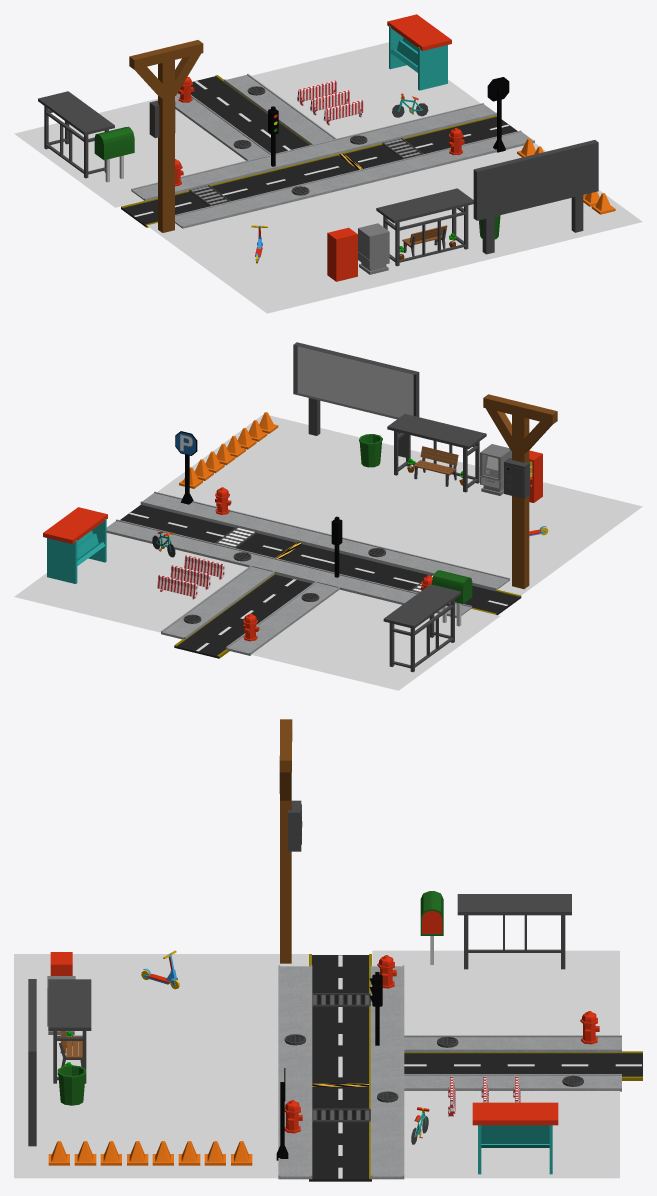
The model's file is Layout.fbx.
3 views of the same model, one above another, from view 1: azimuth 30°, elevation 25°; view 2: azimuth 150°, elevation 25°; view 3: azimuth 270°, elevation 25° (orthographic). The views are drawn at different scales.
Visible parts, largest first — view 1: Plane, Plane.001, Plane.002, bill_board.001, pole.001, book_stall.001, bus_stop.001, bus_stop.002, road.002, road.005, road, road.004 (+34 smaller); view 2: Plane, Plane.002, Plane.001, bill_board.001, pole.001, book_stall.001, bus_stop.002, bus_stop.001, road, road.002, road.005, road.004 (+32 smaller); view 3: Plane, Plane.002, Plane.001, book_stall.001, bus_stop.002, road, road.002, road.005, pole.001, bus_stop.001, road.003, road.001 (+26 smaller).
Boxes of the visible parts, <box> form: Plane: <box>147,143,642,313</box>; Plane.001: <box>251,42,480,138</box>; Plane.002: <box>14,98,245,207</box>; bill_board.001: <box>473,140,598,254</box>; pole.001: <box>129,40,203,232</box>; book_stall.001: <box>387,14,451,90</box>; bus_stop.001: <box>376,188,473,266</box>; bus_stop.002: <box>38,91,114,178</box>; road.002: <box>216,161,331,199</box>; road.005: <box>191,75,267,125</box>; road: <box>403,115,517,153</box>; road.004: <box>222,108,309,153</box>; Plane: <box>157,414,642,595</box>; Plane.002: <box>251,589,500,690</box>; Plane.001: <box>14,533,247,632</box>; bill_board.001: <box>293,342,419,457</box>; pole.001: <box>483,394,557,589</box>; book_stall.001: <box>43,507,107,583</box>; bus_stop.002: <box>383,584,461,672</box>; bus_stop.001: <box>387,414,486,492</box>; road: <box>120,505,234,542</box>; road.002: <box>307,550,422,588</box>; road.005: <box>174,607,269,658</box>; road.004: <box>221,574,311,619</box>; Plane: <box>14,954,308,1178</box>; Plane.002: <box>372,950,619,1035</box>; Plane.001: <box>404,1091,619,1178</box>; book_stall.001: <box>472,1102,558,1174</box>; bus_stop.002: <box>457,894,571,969</box>; road: <box>309,1121,371,1181</box>; road.002: <box>312,1010,370,1067</box>; road.005: <box>507,1051,642,1080</box>; pole.001: <box>279,719,292,963</box>; bus_stop.001: <box>48,979,91,1083</box>; road.003: <box>309,954,371,1011</box>; road.001: <box>312,1065,370,1123</box>.
Bounding box in the file's own units: 1975 × 860 × 2198.
